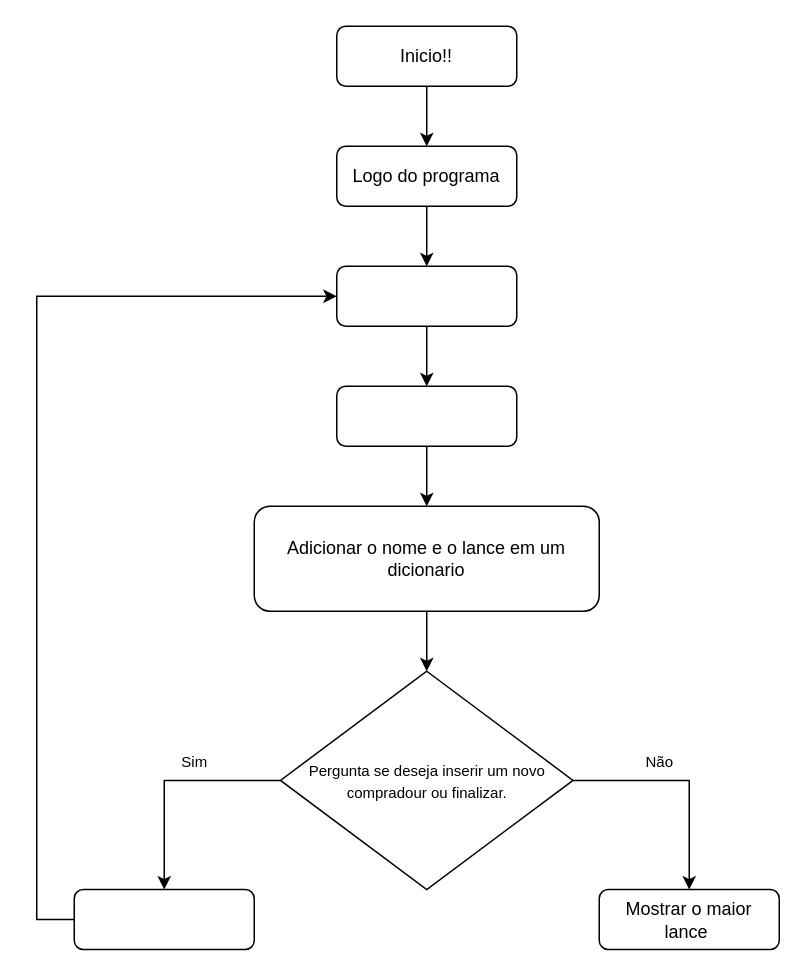
This 806x977 diagram has some shape labels left out. The shapes that lost their labels are listed below. From the top down, each one's box as (x1, y1, x2, y2) in pixels, then its label:
(335, 265, 517, 326): Pergunta pelo nome(input)
(335, 385, 517, 446): Pergunta pelo lançe(input)
(73, 888, 254, 950): Limpar console
